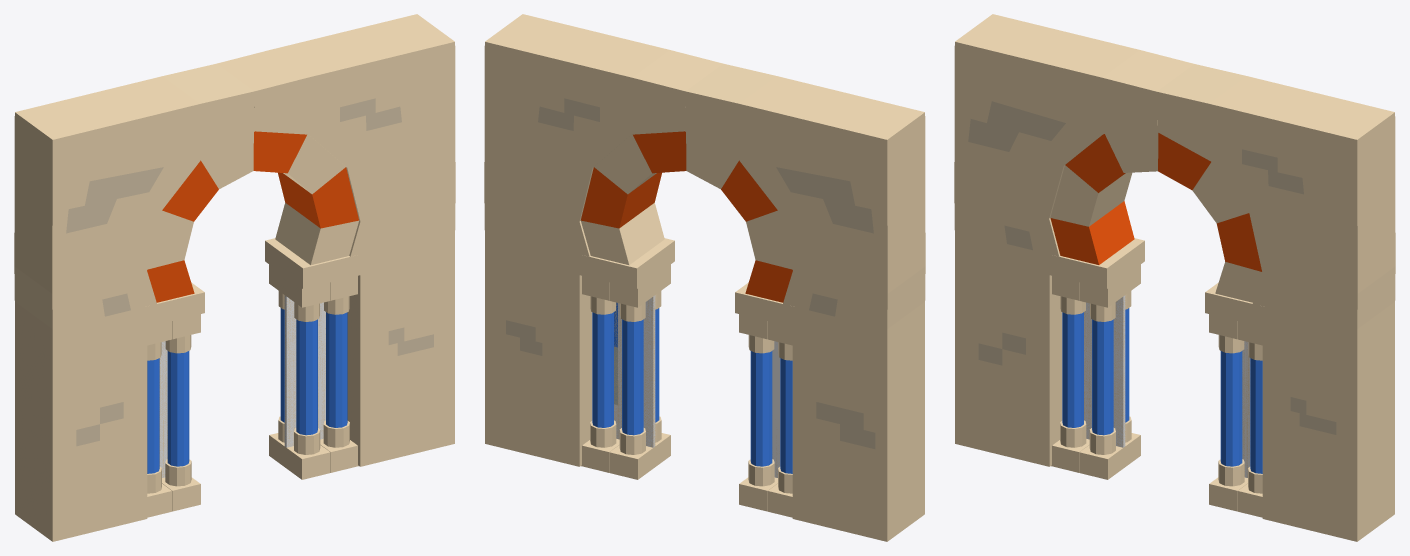
The model's file is Arco.fbx.
3 renders of one model, left to right at view 1: azimuth 30°, elevation 25°; view 2: azimuth 150°, elevation 25°; view 3: azimuth 330°, elevation 25°, orthographic.
Parts seen in each view (by area): view 1: Pared, Columnas, Arco; view 2: Pared, Columnas, Arco; view 3: Pared, Columnas, Arco.
Part boxes in pixels (left/top/right/bottom): Pared: left=14, top=14, right=455, bottom=541; Columnas: left=144, top=238, right=363, bottom=517; Arco: left=147, top=131, right=359, bottom=302; Pared: left=484, top=14, right=925, bottom=541; Columnas: left=576, top=238, right=795, bottom=517; Arco: left=580, top=131, right=792, bottom=302; Pared: left=954, top=14, right=1395, bottom=541; Columnas: left=1046, top=238, right=1265, bottom=517; Arco: left=1050, top=132, right=1262, bottom=302.
Size of the model in its own units: 210 by 201 by 34.25.
